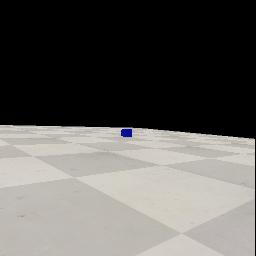box: (121, 129, 132, 137)
